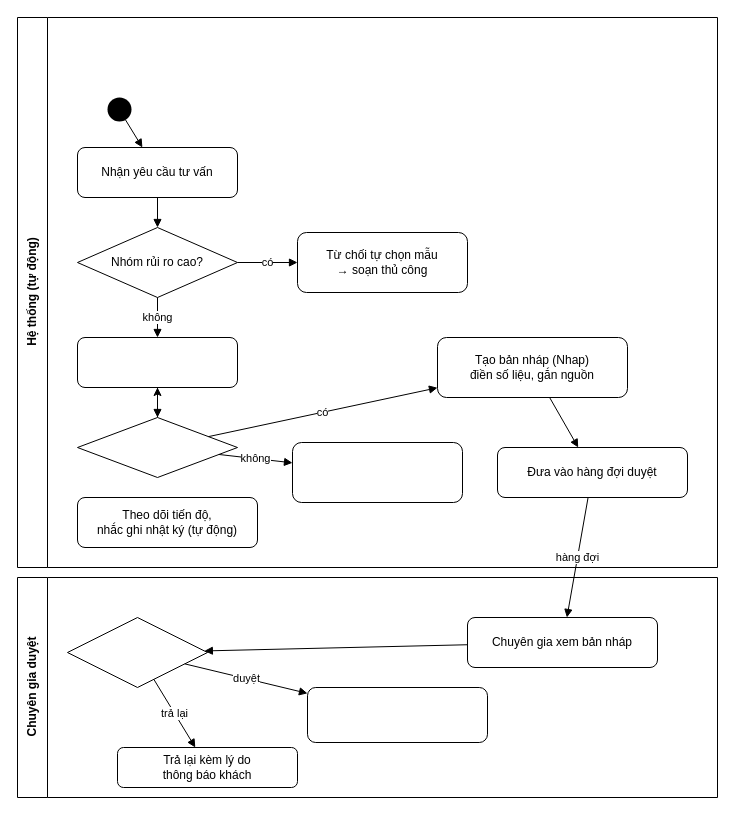
Image size: 735x815. Some labels were removed from this diagram. The shapes that lost their labels are listed below. From the top down, each one's centre as x and y in pixels, then its label:
At pixel 157 362: "Chọn mẫu đã duyệt khớp tiêu chí".
At pixel 157 447: "Có mẫu khớp?".
At pixel 377 472: "Thông báo không có mẫu → soạn thủ công".
At pixel 137 652: "Duyệt?".
At pixel 397 714: "Chuyển DaDuyet thông báo khách".
